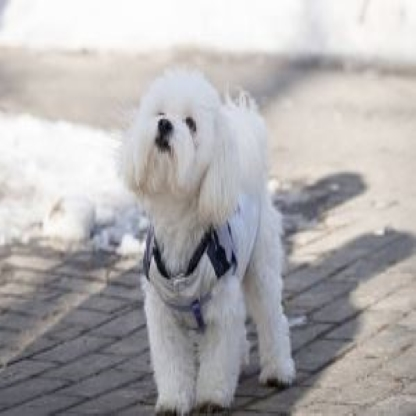maltese: (105, 59, 301, 410)
